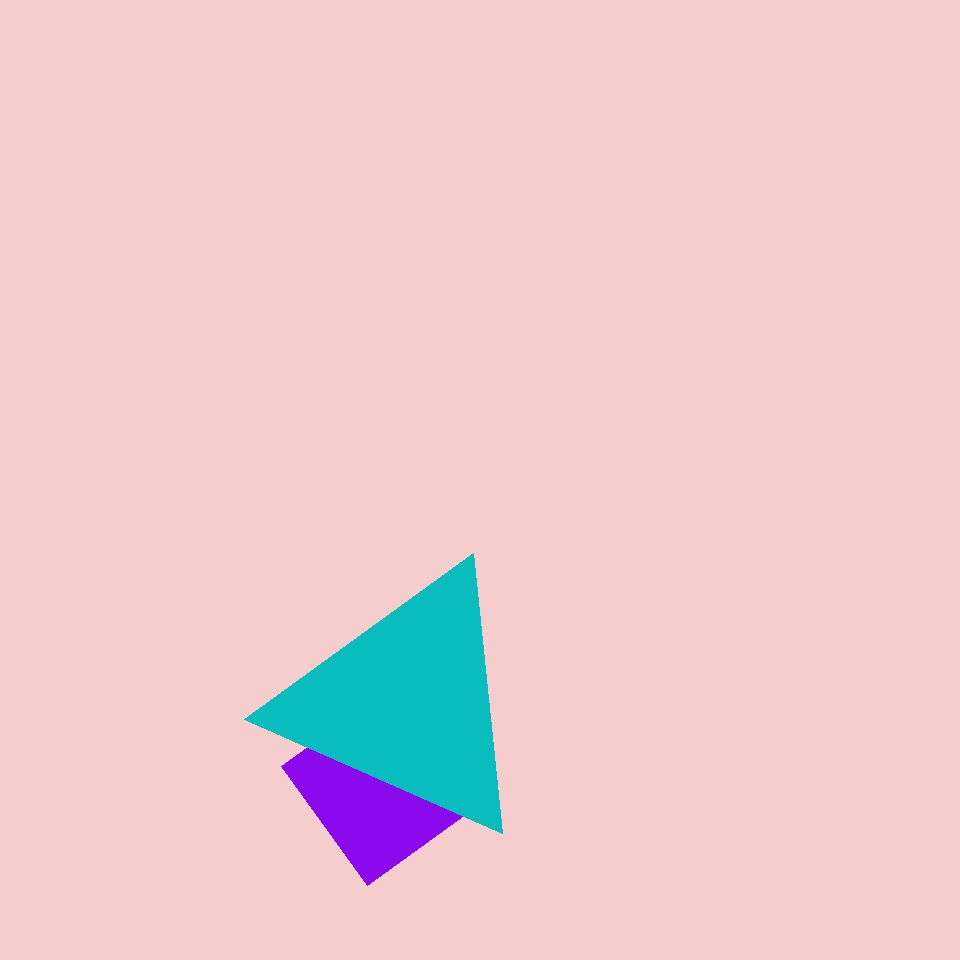circle: (278, 562, 536, 842), (167, 671, 255, 761)
square: (264, 546, 631, 913), (282, 680, 487, 886), (28, 562, 145, 679)
triangle: (72, 220, 289, 437)
